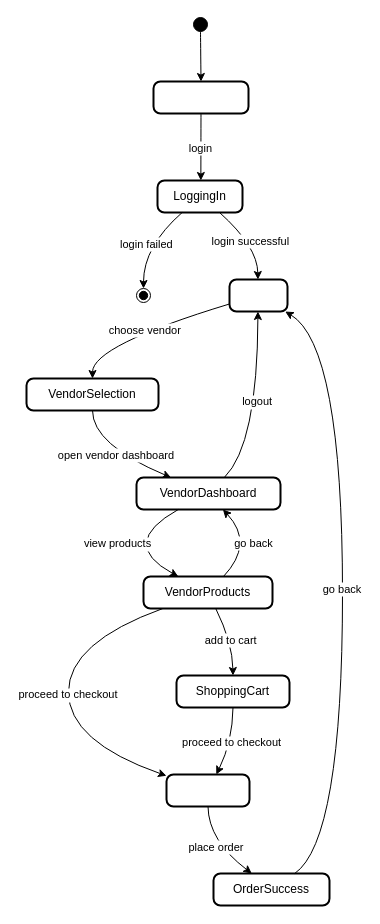
Some shapes in this 380 by 924 pixel diagram are drawn without their labels. The centre of each missing label's shape, as x and y in pixels:
Checkout: the point at 207,790
Home: the point at 258,295
LoggedOut: the point at 200,97
